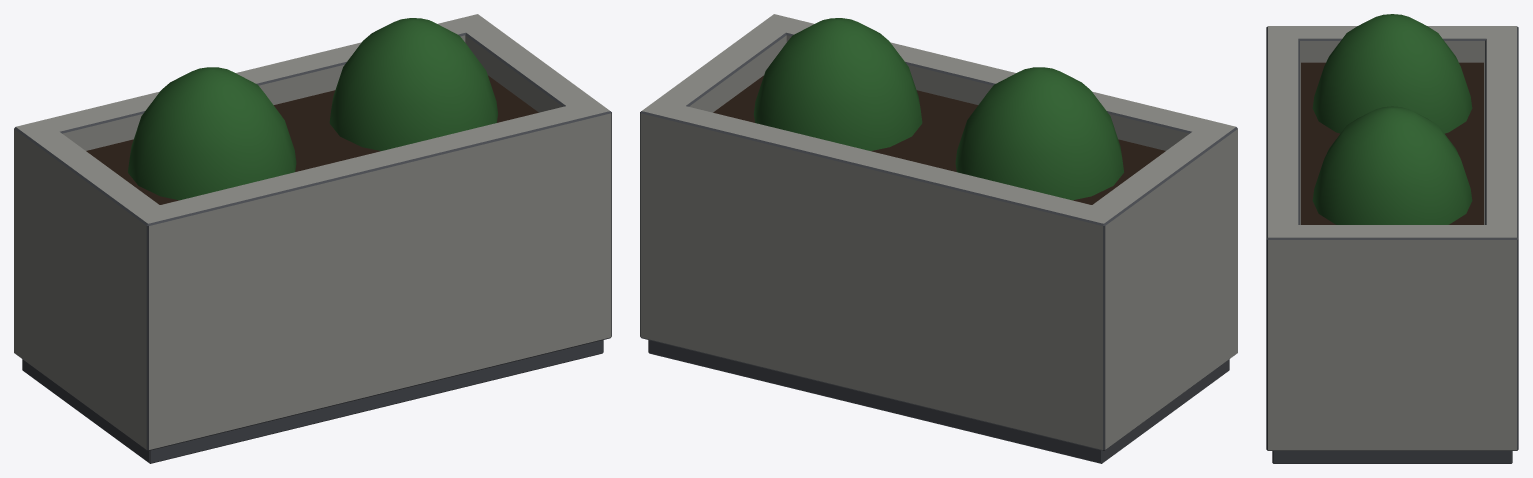
The model's file is gteki_street_planter_box_1200x600_h600.glb.
3 renders of one model, left to right at view 1: azimuth 30°, elevation 25°; view 2: azimuth 150°, elevation 25°; view 3: azimuth 270°, elevation 25°, orthographic. The views are drawn at different scales.
Visible parts, largest first — view 1: VIS_body, VIS_plants, VIS_base, VIS_soil; view 2: VIS_body, VIS_plants, VIS_base, VIS_soil; view 3: VIS_body, VIS_plants, VIS_soil, VIS_base.
Boxes of the visible parts, <box> form: VIS_body: <box>14,14,611,450</box>; VIS_plants: <box>128,18,497,200</box>; VIS_base: <box>22,340,603,463</box>; VIS_soil: <box>86,75,538,204</box>; VIS_body: <box>640,14,1237,450</box>; VIS_plants: <box>754,18,1123,200</box>; VIS_base: <box>648,340,1229,463</box>; VIS_soil: <box>713,75,1165,204</box>; VIS_body: <box>1266,26,1518,450</box>; VIS_plants: <box>1312,14,1472,224</box>; VIS_soil: <box>1301,62,1483,224</box>; VIS_base: <box>1272,451,1512,463</box>.
Size of what is drawn, in the model's own units: 1.2 by 0.7807 by 0.6.
